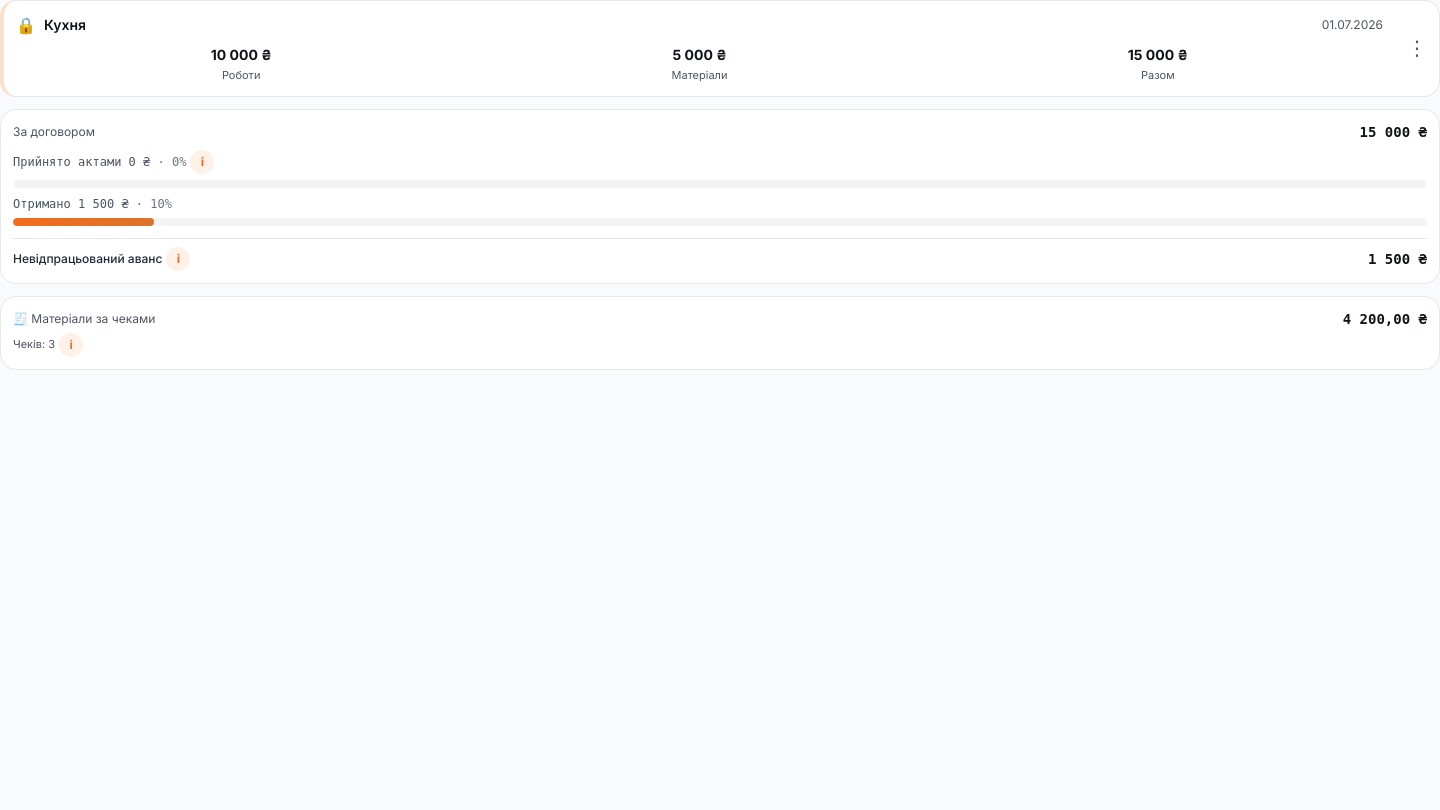
Test: ObjectEconomySection › the materials card ⓘ explains itself instead of navigating away
The image size is (1440, 810).
Click the button named "Матеріали за чеками" at (71, 344), box [59,332,83,356]
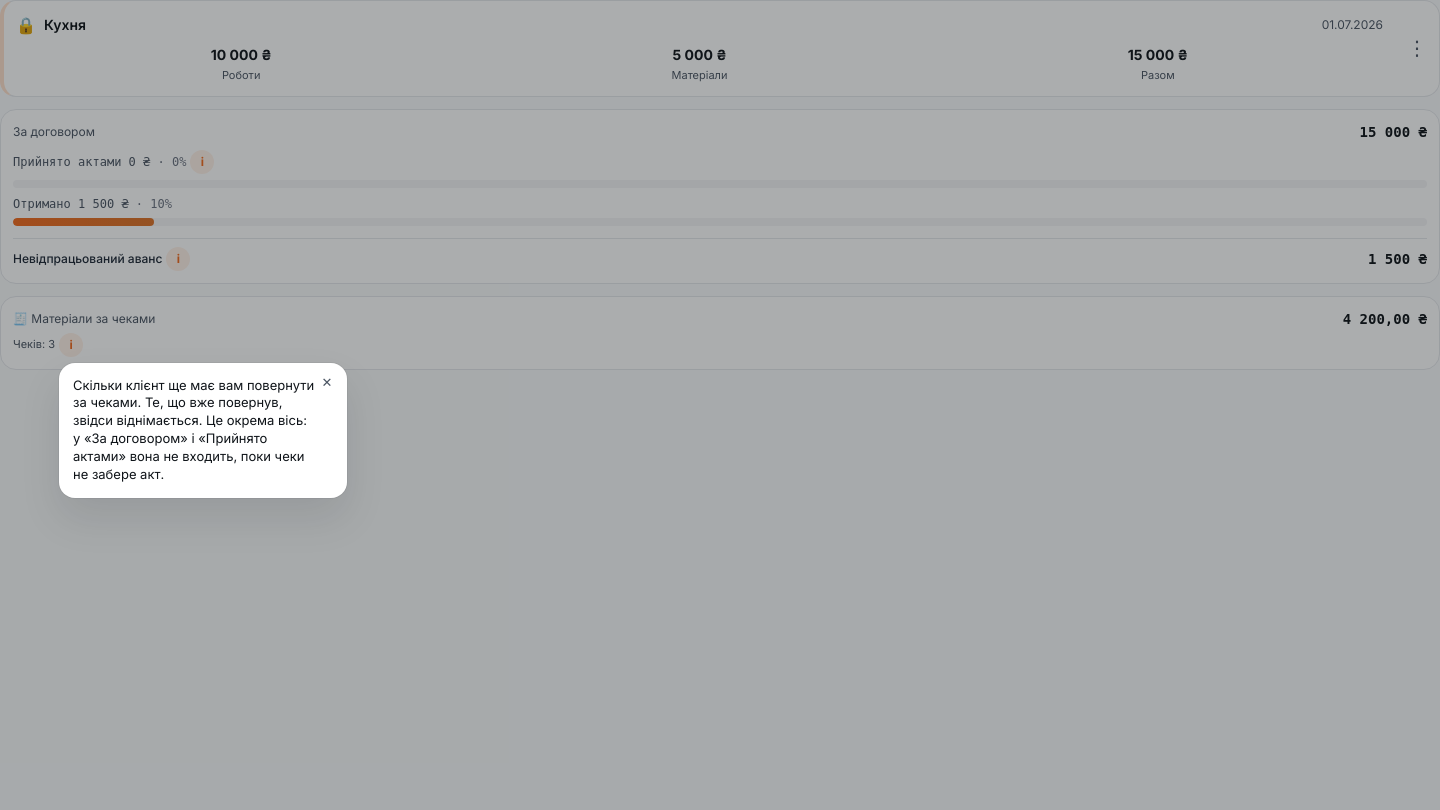
Expected: the dialog named "Матеріали за чеками" is shown, [59,362,347,498]
